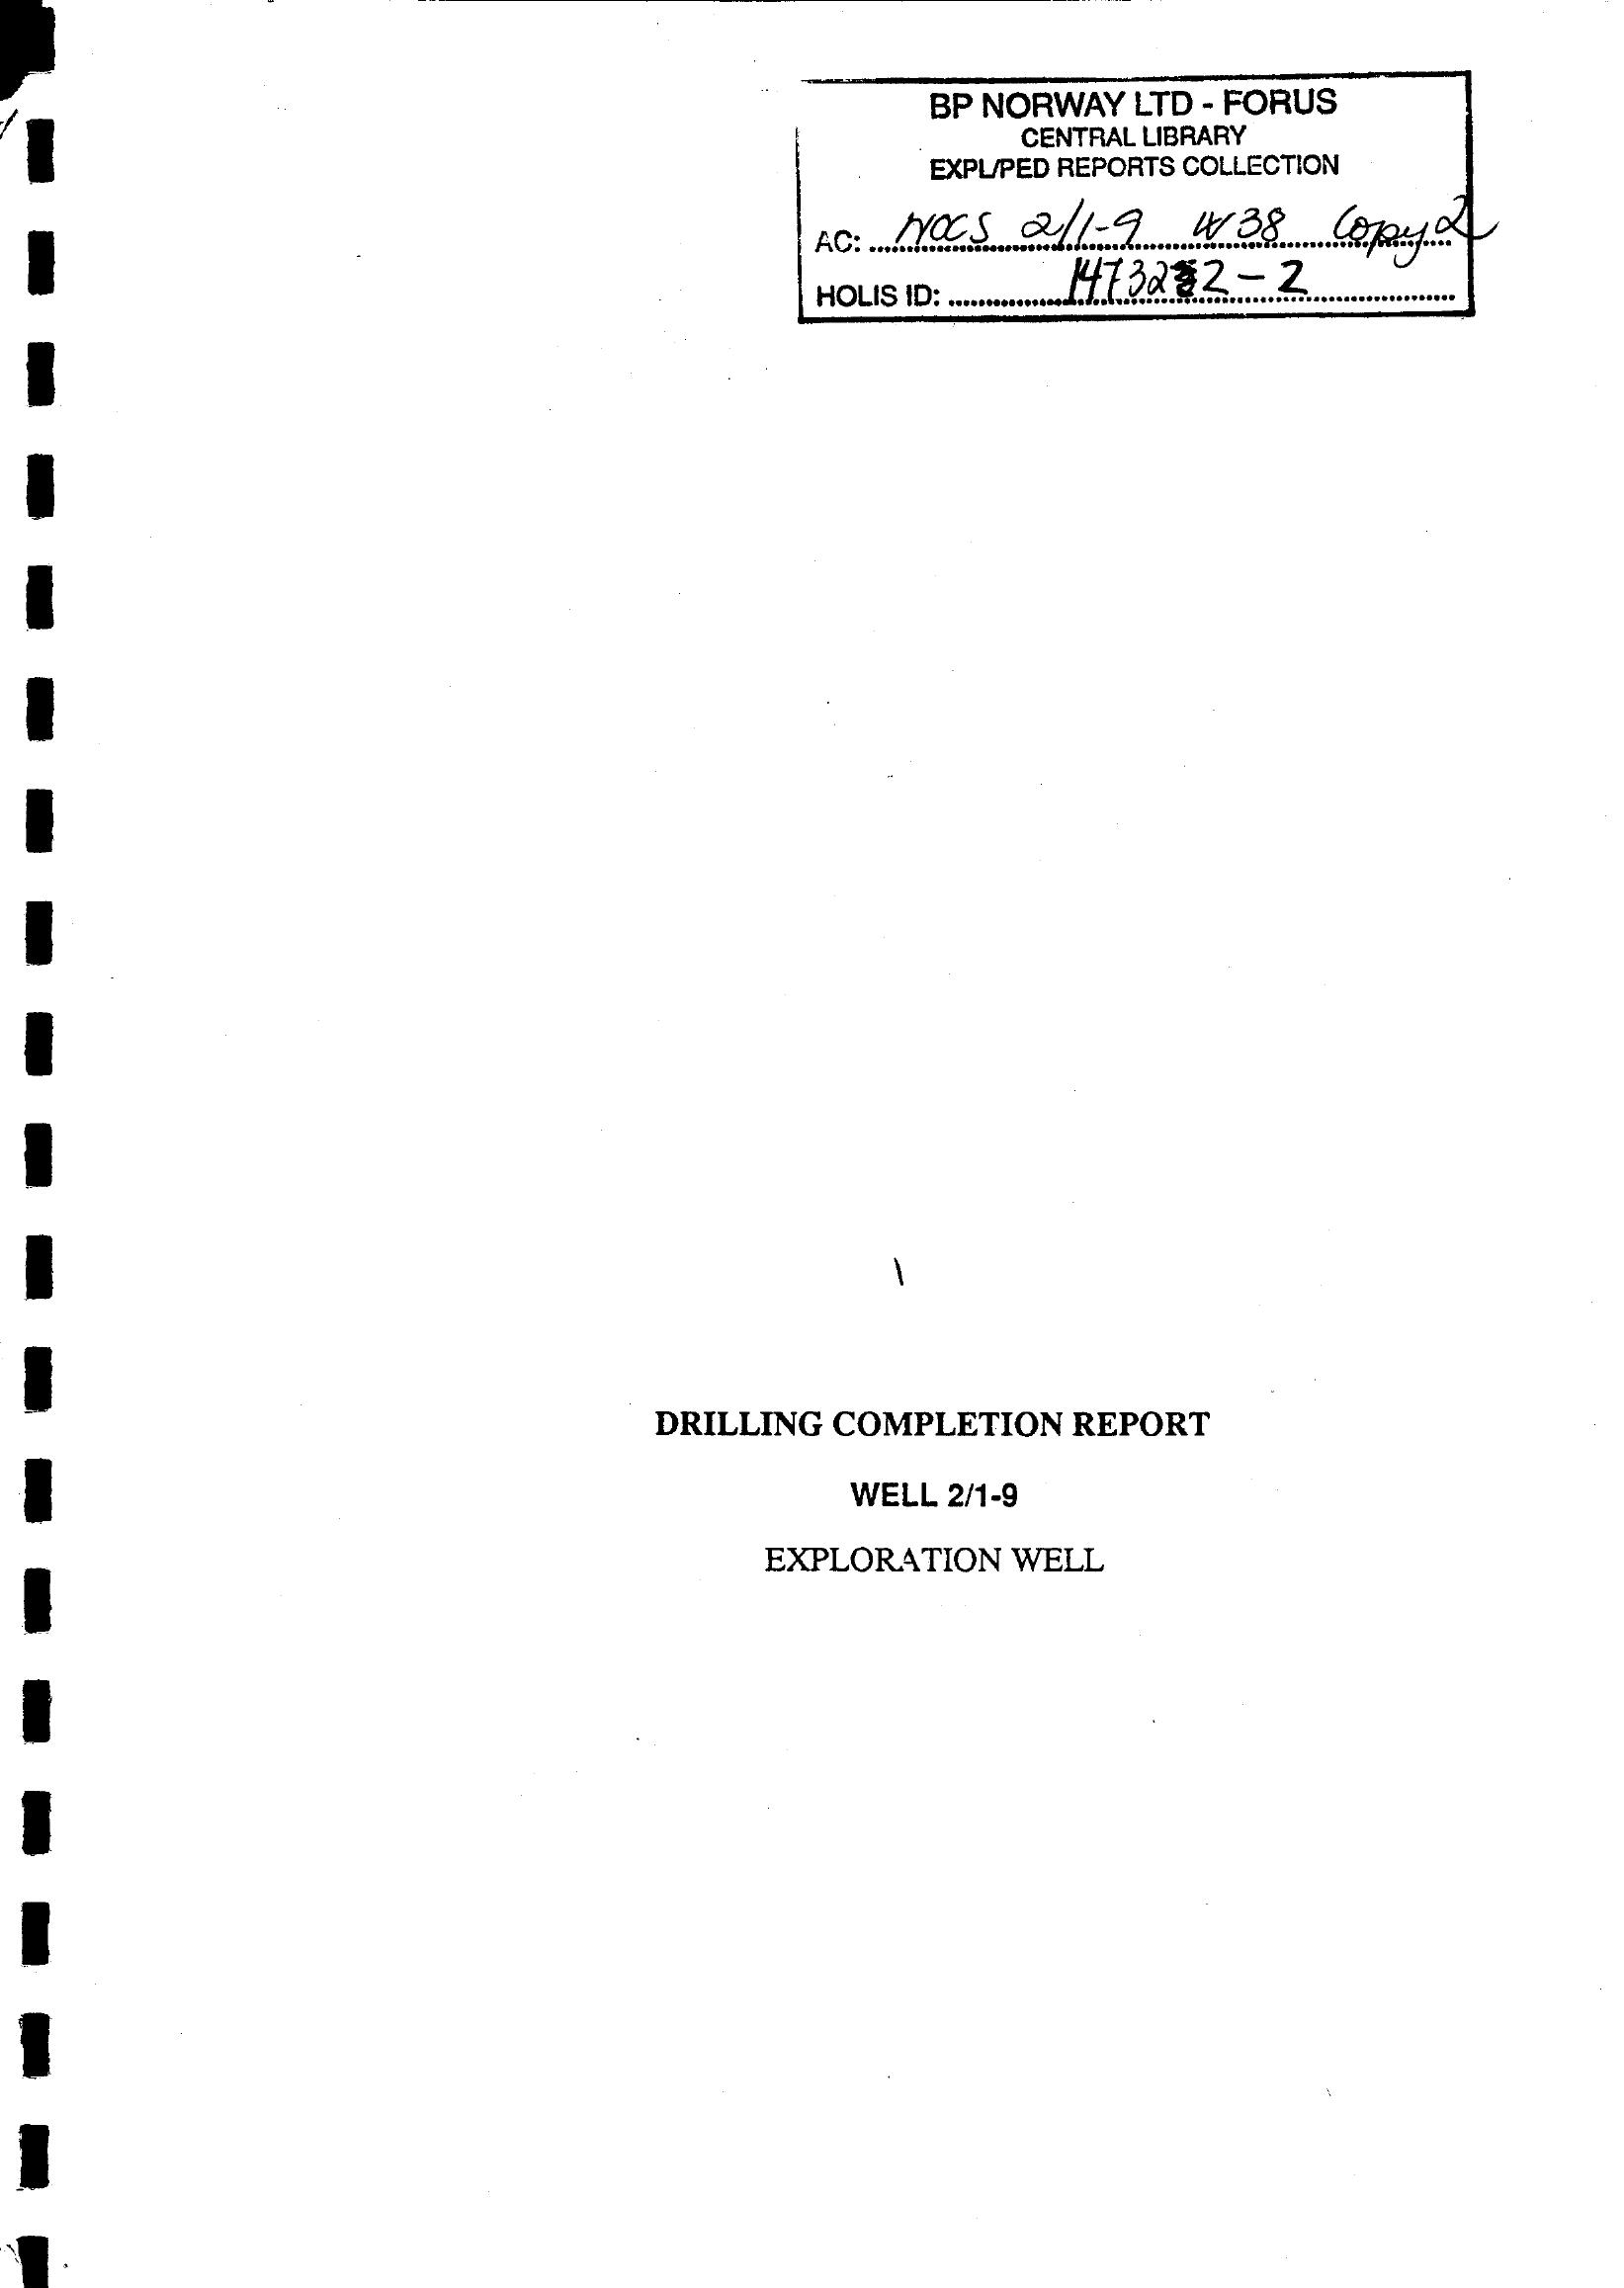text: (599, 1390, 1246, 1617)
undefined: (710, 42, 1522, 367)
